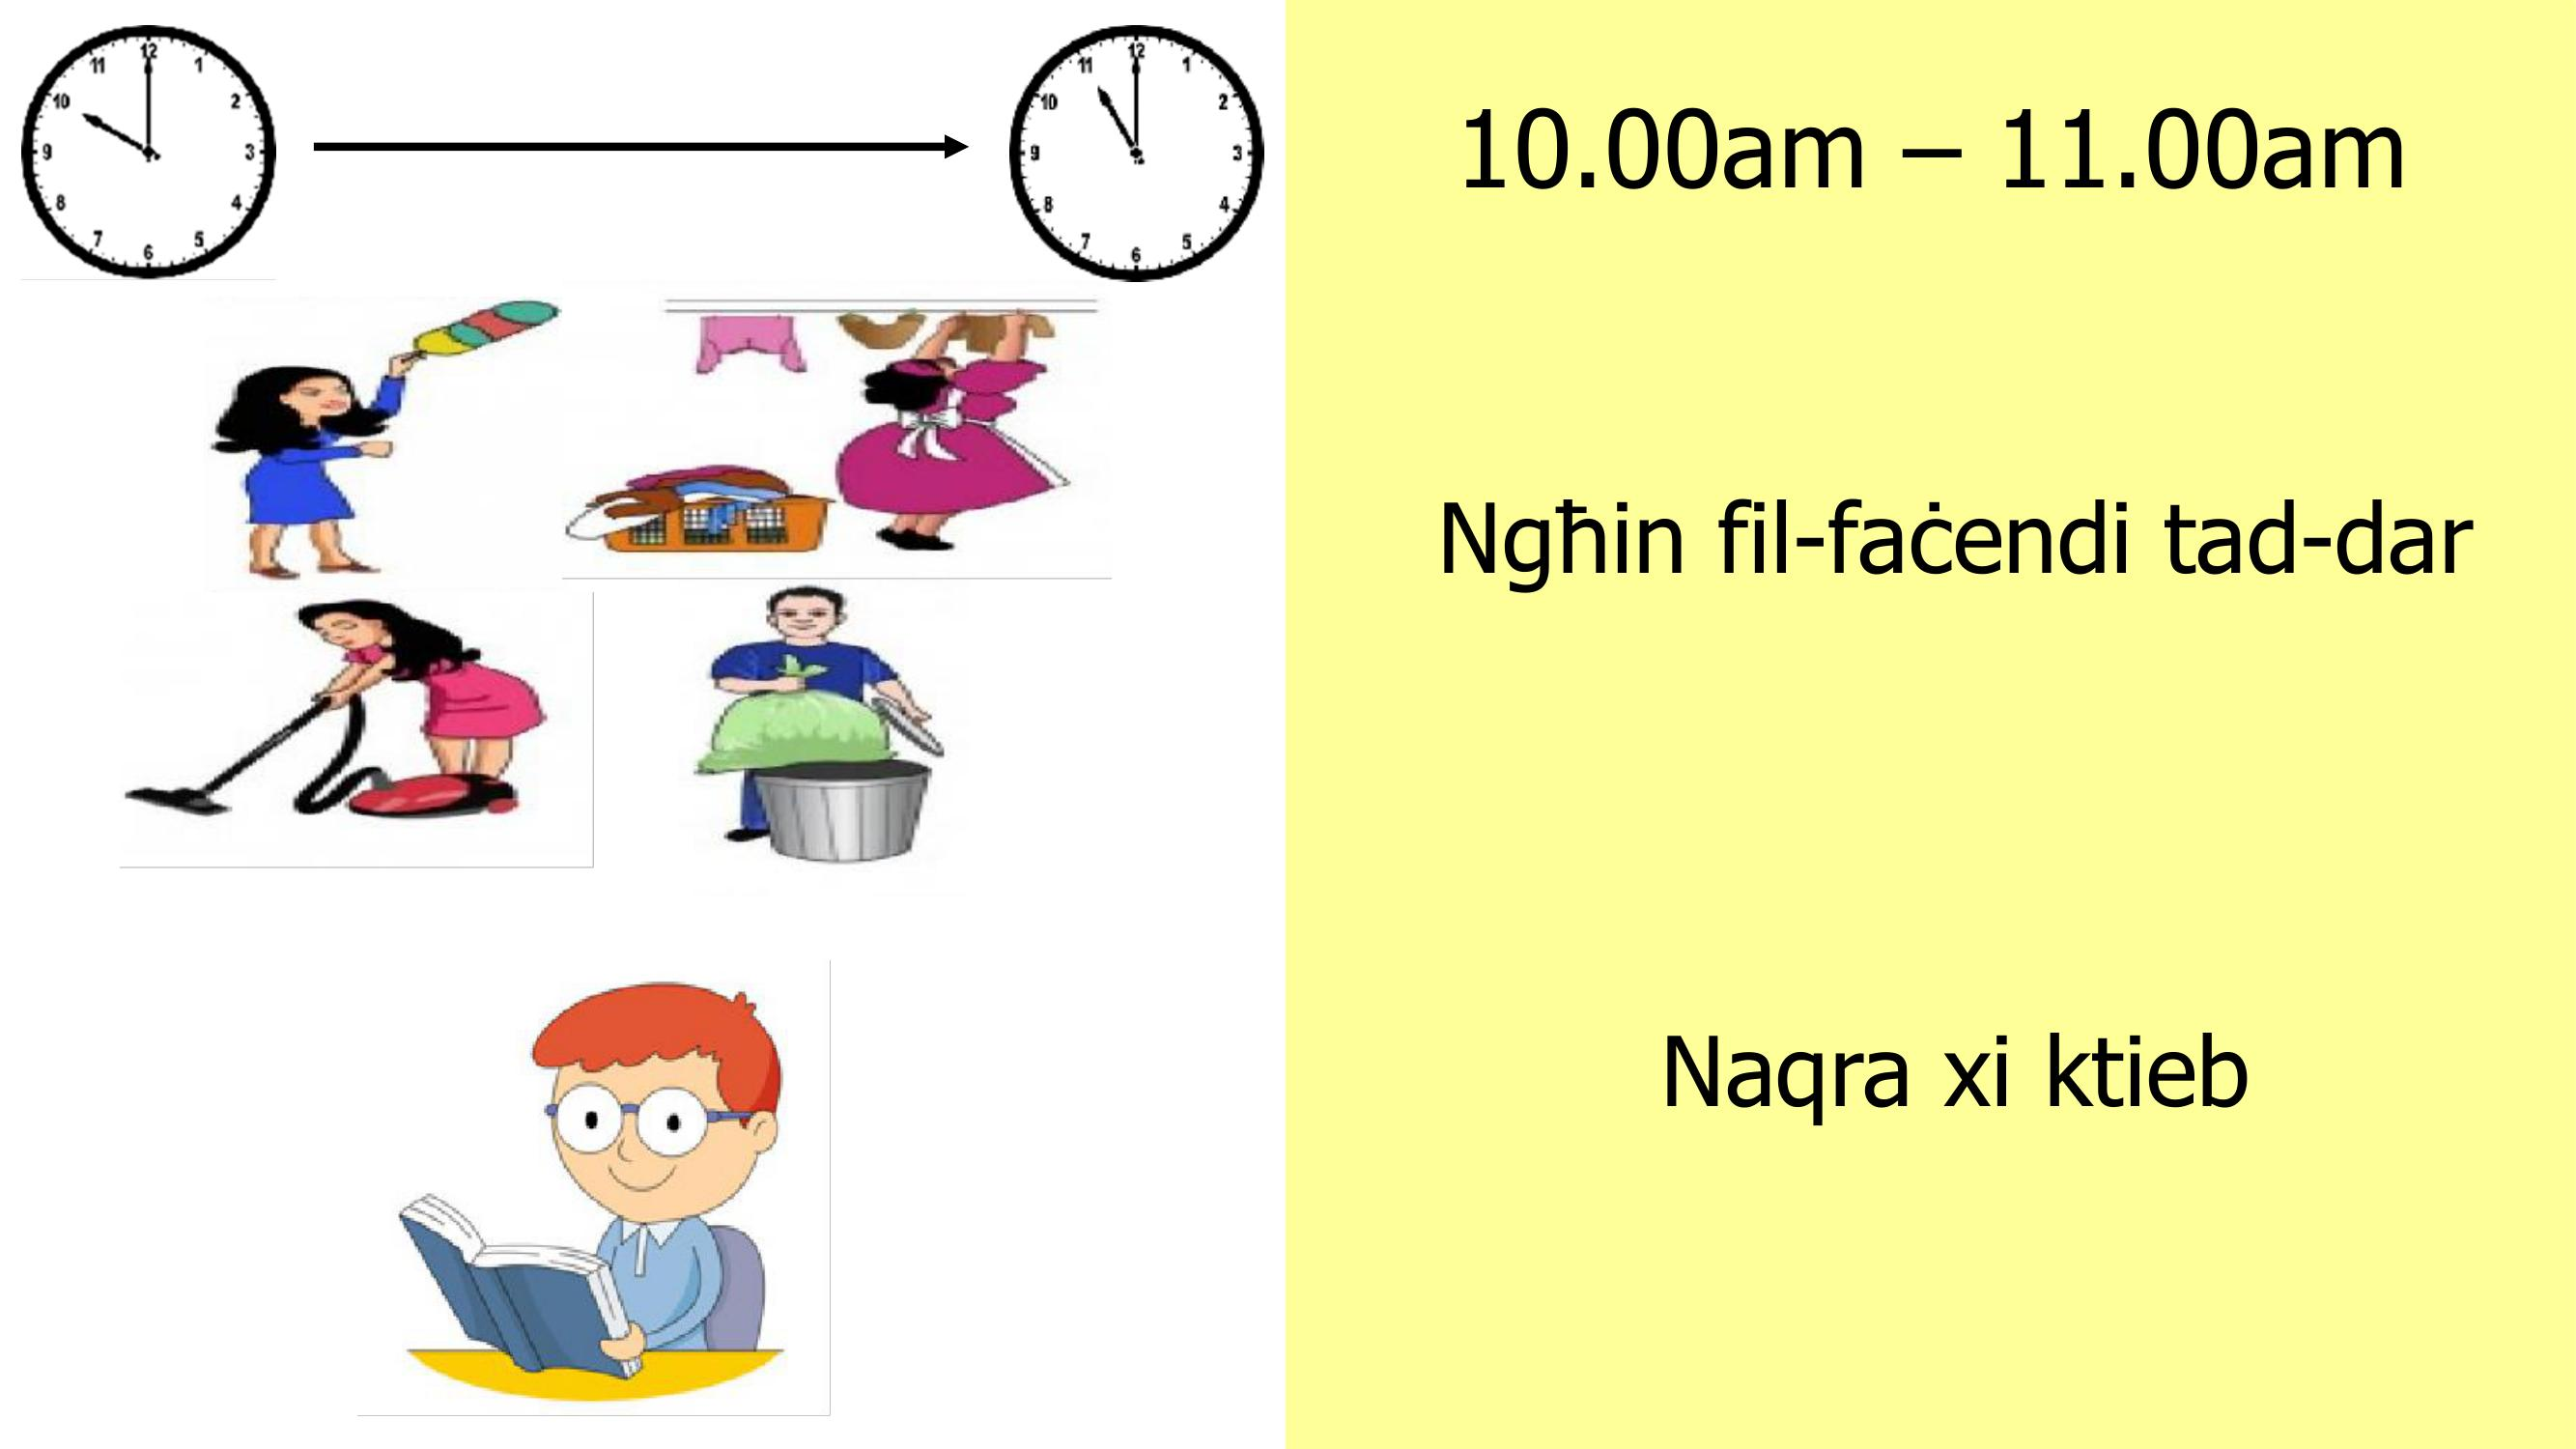text: (1403, 442, 2532, 1182)
